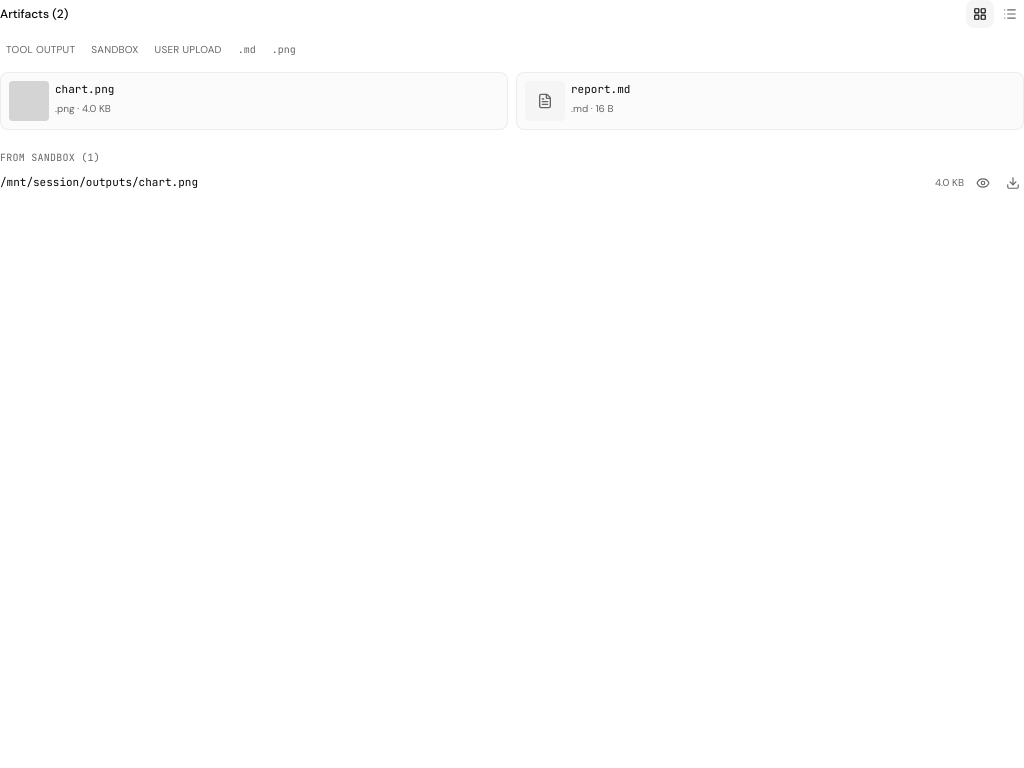
Test: <ArtifactsPanel /> › lists a write artifact and opens a CodeBlock preview
This screenshot has width=1024, height=768.
Expected: the text "report.md" is shown, x1=571 y1=82 x2=630 y2=96
Expected: the text "chart.png" is shown, x1=55 y1=82 x2=114 y2=96
Click the button named "List view" at x=1010, y=14, box x1=996 y1=0 x2=1023 y2=28
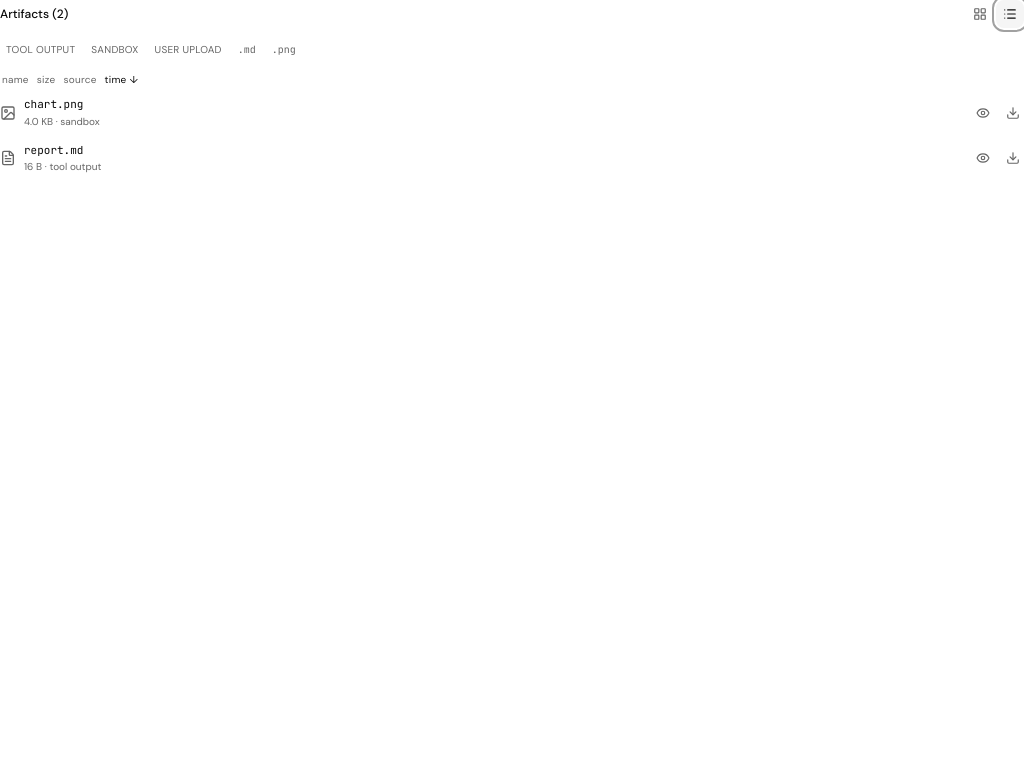
Expected: the button named "List view" is pressed, x1=996 y1=0 x2=1023 y2=28
Click the button "Tool output" at x=41, y=50, box x1=0 y1=40 x2=81 y2=60
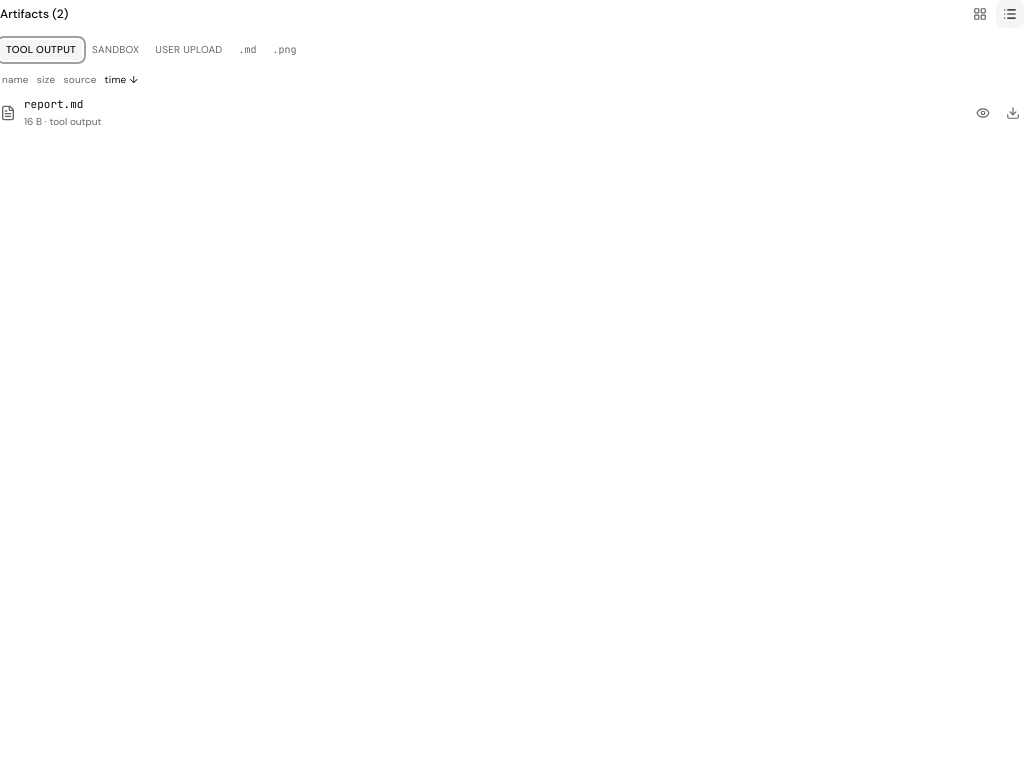
Expected: the button "chart.png" is gone
Click the text "report.md" at x=54, y=105, box x1=24 y1=96 x2=83 y2=114
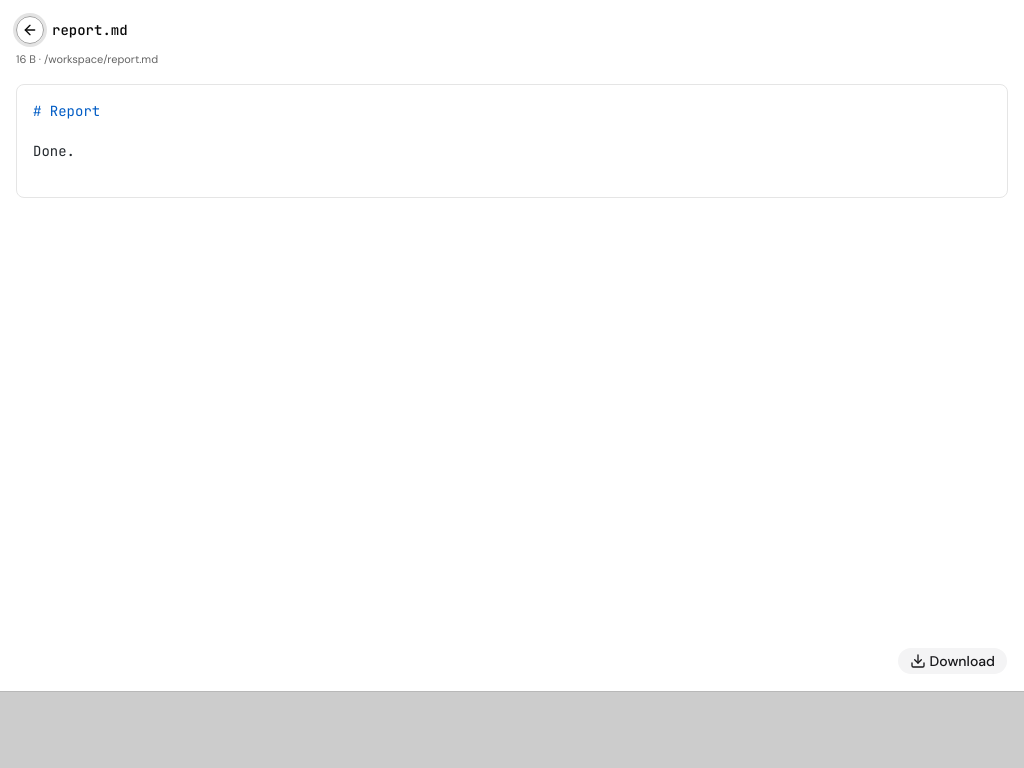
Expected: the button "Download" is shown, x1=897 y1=647 x2=1008 y2=675
Expected: the heading "report.md" is shown, x1=16 y1=16 x2=128 y2=44
